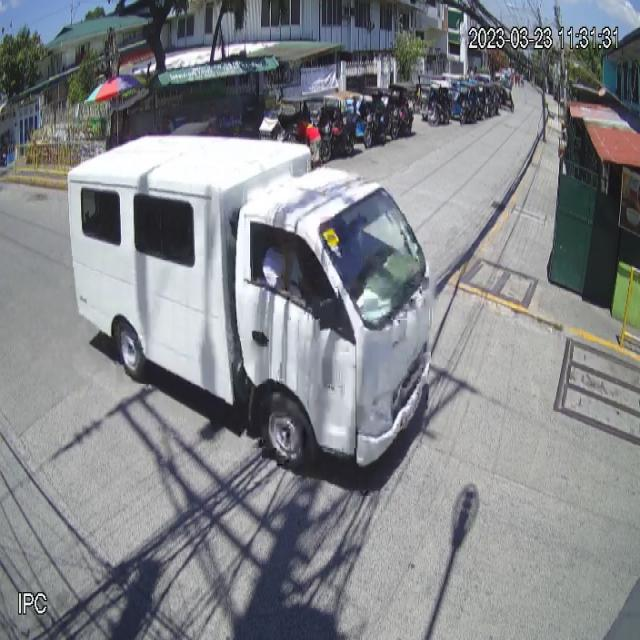Van: (66, 133, 437, 475)
